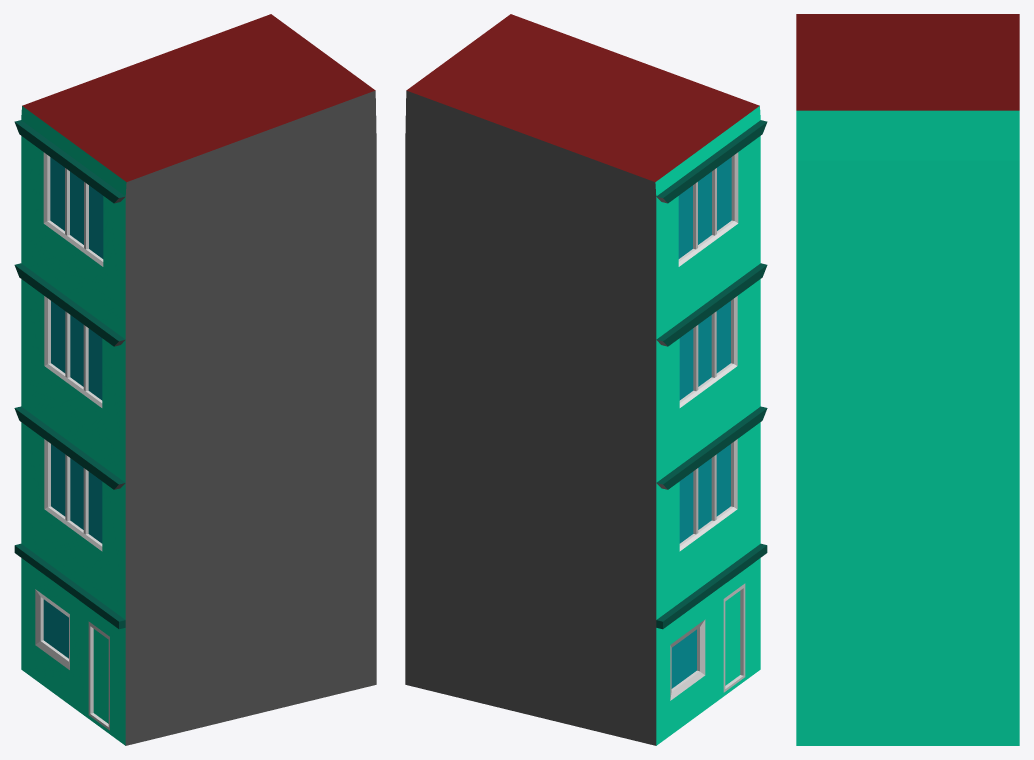
Rendered from modern tube1.fbx.
3 renders of one model, left to right at view 1: azimuth 30°, elevation 25°; view 2: azimuth 150°, elevation 25°; view 3: azimuth 270°, elevation 25°, orthographic. The views are drawn at different scales.
Visible parts, largest first — view 1: tube2; view 2: tube2; view 3: tube2.
Part boxes in pixels (x1,y1,x2,y2): tube2: [14, 14, 376, 745]; tube2: [405, 14, 767, 745]; tube2: [796, 14, 1019, 745].
Bounding box in the file's own units: 407 × 897 × 286.
